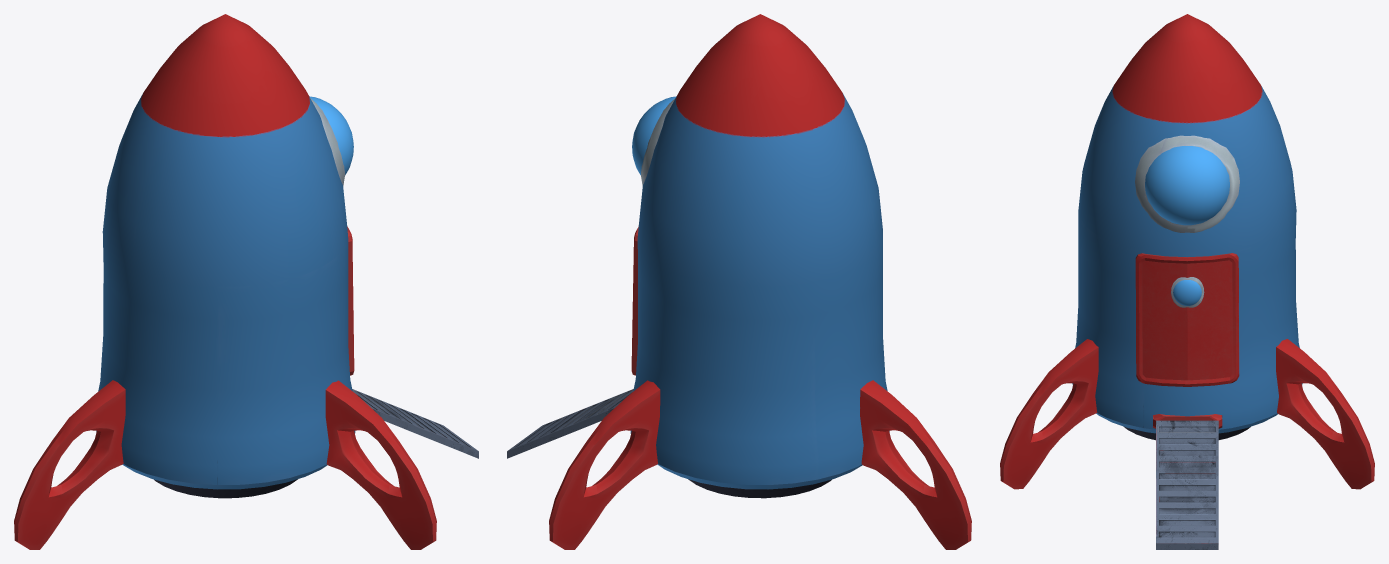
File: base rocket inproved 1.fbx
3 renders of one model, left to right at view 1: azimuth 30°, elevation 25°; view 2: azimuth 150°, elevation 25°; view 3: azimuth 270°, elevation 25°, orthographic. The views are drawn at different scales.
Parts seen in each view (by area): view 1: rocket body main, fin left, fin back, walkway, glass, door, glass mounnting ring; view 2: rocket body main, fin back, fin right, walkway, glass, door, glass mounnting ring; view 3: rocket body main, door, walkway, fin right, fin left, glass, glass mounnting ring, door window.
Part boxes in pixels (x1,y1,x2,y2): rocket body main: [96, 14, 355, 498]; fin left: [325, 380, 436, 549]; fin back: [14, 380, 125, 549]; walkway: [352, 389, 478, 458]; glass: [309, 96, 353, 175]; door: [347, 226, 354, 375]; glass mounnting ring: [310, 98, 344, 185]; rocket body main: [630, 14, 889, 498]; fin back: [860, 380, 971, 549]; fin right: [549, 380, 660, 549]; walkway: [507, 389, 633, 458]; glass: [632, 96, 676, 175]; door: [631, 227, 638, 375]; glass mounnting ring: [641, 98, 675, 185]; rocket body main: [1072, 14, 1302, 440]; door: [1135, 253, 1239, 386]; walkway: [1153, 414, 1222, 549]; fin right: [1276, 339, 1374, 489]; fin left: [1000, 339, 1098, 489]; glass: [1145, 146, 1229, 225]; glass mounnting ring: [1135, 135, 1239, 232]; door window: [1171, 277, 1204, 307].
Bounding box in the file's own units: 476 × 499 × 391.
